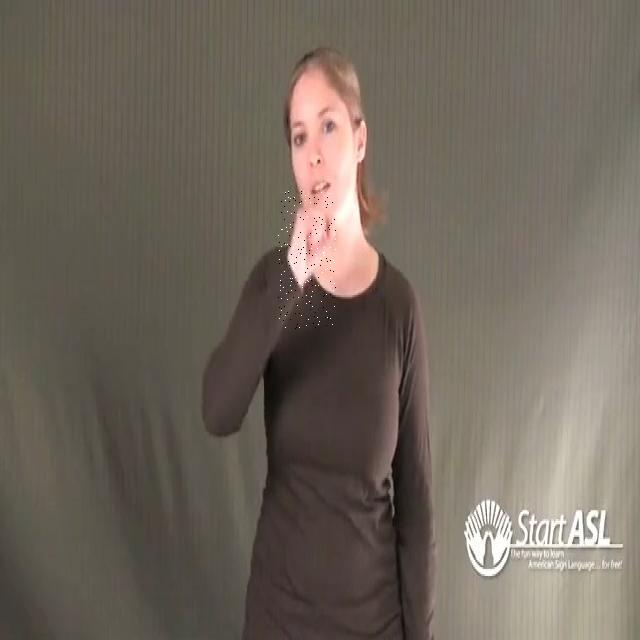icecream: (278, 190, 336, 330)
